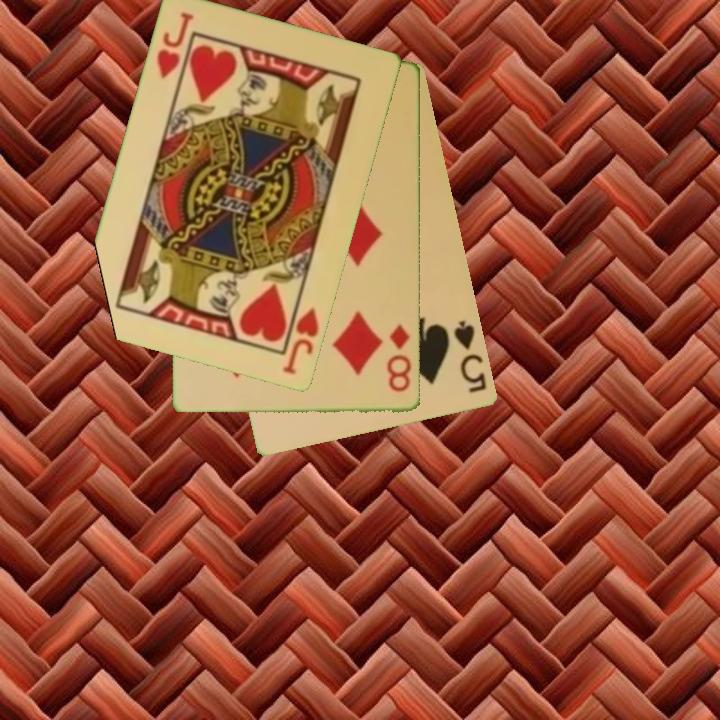5s: (451, 317, 490, 396)
8d: (384, 321, 415, 396)
Jh: (153, 8, 197, 82), (279, 303, 322, 378)
